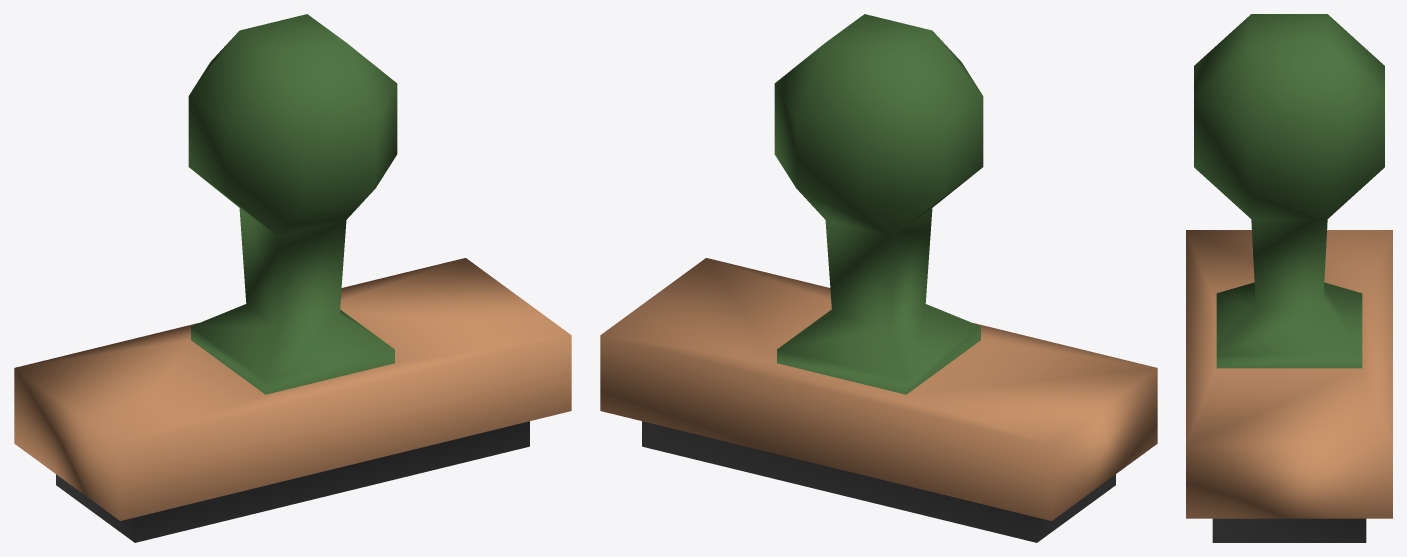
File: ApproveStamp.fbx
3 renders of one model, left to right at view 1: azimuth 30°, elevation 25°; view 2: azimuth 150°, elevation 25°; view 3: azimuth 270°, elevation 25°, orthographic. The views are drawn at different scales.
Visible parts, largest first — view 1: mesh_stamp_01; view 2: mesh_stamp_01; view 3: mesh_stamp_01.
Boxes of the visible parts, x1=… form: mesh_stamp_01: x1=14, y1=14, x2=571, y2=542; mesh_stamp_01: x1=600, y1=14, x2=1157, y2=542; mesh_stamp_01: x1=1186, y1=14, x2=1392, y2=542.
Bounding box in the file's own units: 5.59 × 2.27 × 5.08.
Materials: 1 (1 with a texture image).
